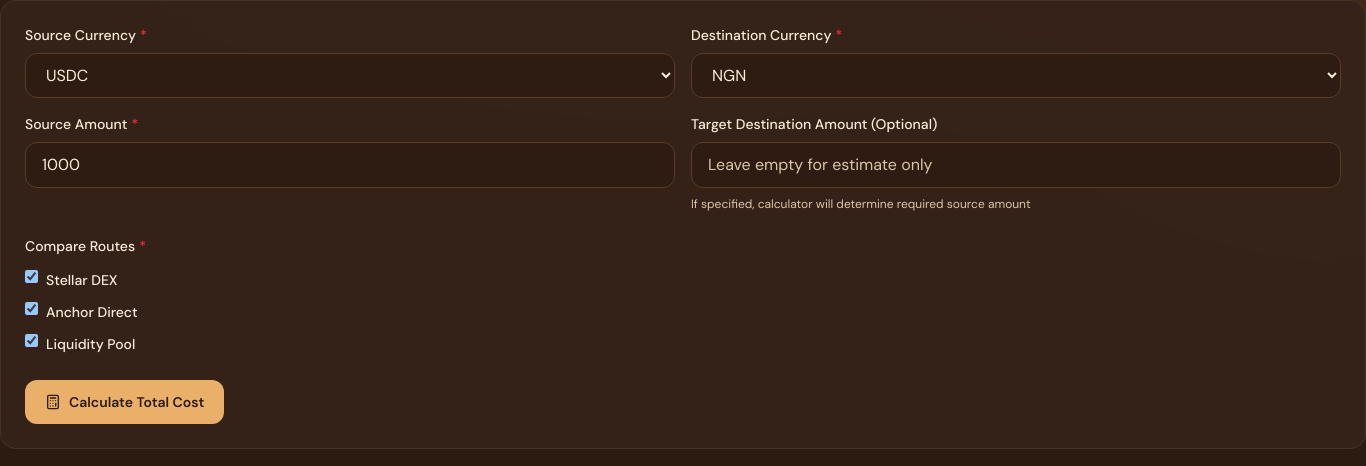
Test case: CostCalculator – canSubmit guard › disables submit when amount is empty
Clear the number field showing "1000": {"x": 350, "y": 165} [25, 142, 675, 188]
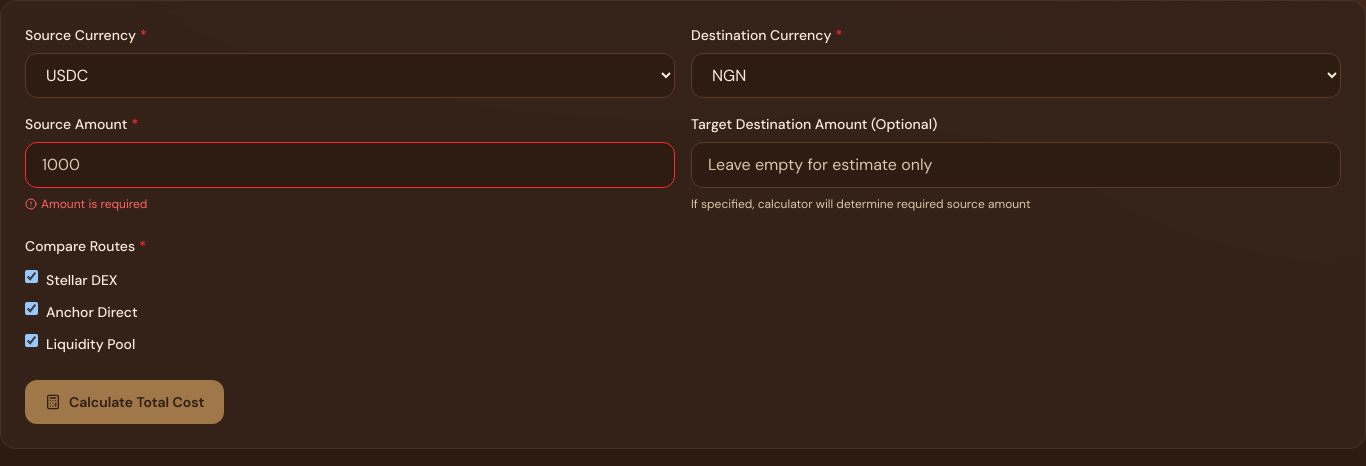
Expected: the button "Calculate Total Cost" is disabled, [25, 380, 224, 424]
